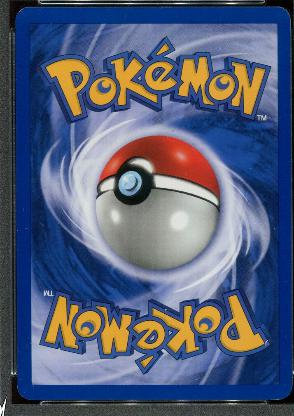Card: (14, 5, 291, 403)
Corner Wear: (275, 6, 290, 16), (266, 396, 289, 401), (16, 384, 24, 398), (17, 8, 24, 16)
Edge Wear: (156, 6, 179, 8)
Scratch: (25, 341, 31, 346), (39, 221, 45, 226), (23, 226, 30, 230), (281, 279, 286, 283), (282, 334, 286, 338), (22, 206, 24, 210), (280, 196, 283, 198), (57, 222, 59, 224)
